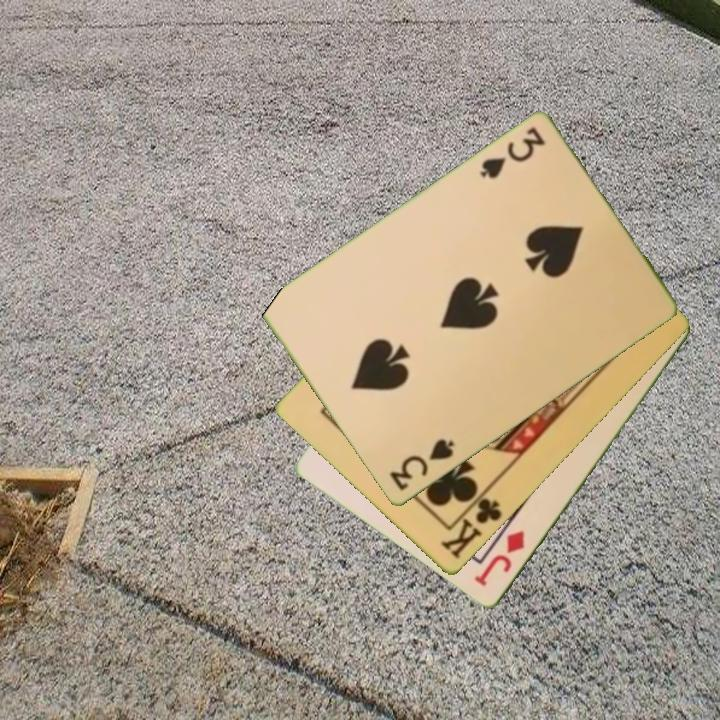3s: (475, 124, 549, 183), (386, 435, 457, 494)
Jd: (470, 527, 528, 590)
Kc: (437, 486, 505, 563)
